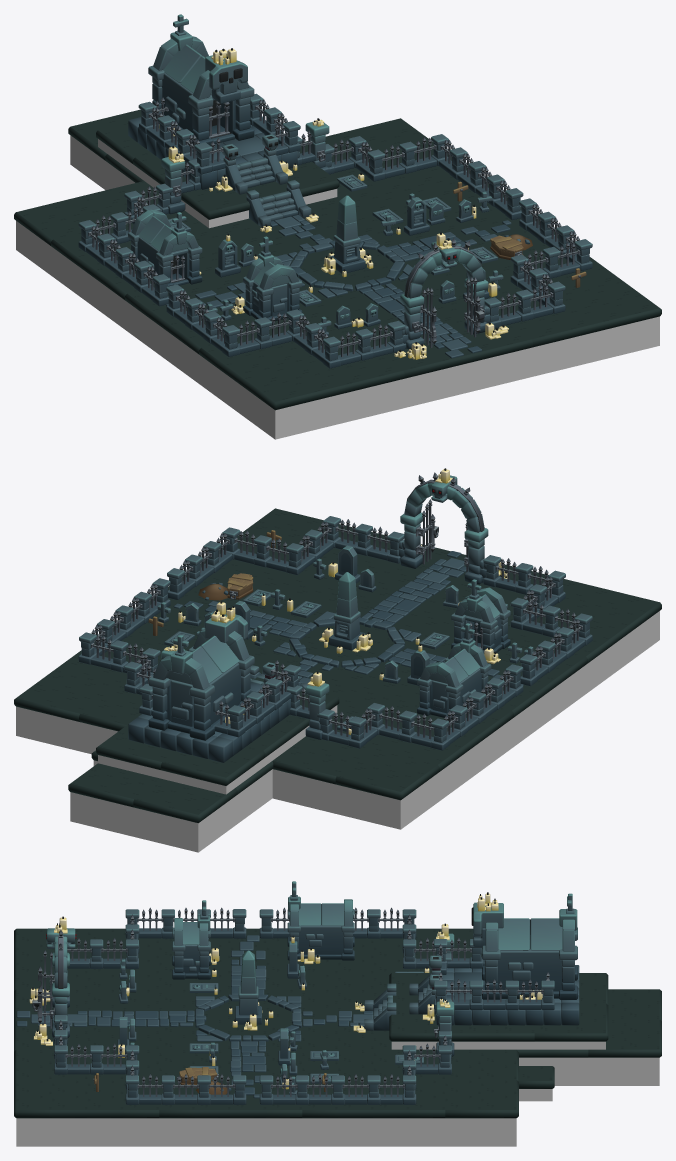
Rendered from sample.fbx.
The picture shows the model from 3 angles, top to bottom: view 1: azimuth 30°, elevation 25°; view 2: azimuth 150°, elevation 25°; view 3: azimuth 270°, elevation 25°; orthographic projection. The views are drawn at different scales.
Parts seen in each view (by area): view 1: cemetery_sample, grass2, ground; view 2: cemetery_sample, grass2, ground; view 3: grass2, cemetery_sample, ground.
Part boxes in pixels (x1=…): cemetery_sample: x1=78, y1=14, x2=592, y2=368; grass2: x1=14, y1=109, x2=661, y2=410; ground: x1=16, y1=135, x2=659, y2=439; cemetery_sample: x1=78, y1=468, x2=592, y2=762; grass2: x1=14, y1=508, x2=661, y2=823; ground: x1=16, y1=611, x2=659, y2=852; grass2: x1=14, y1=928, x2=661, y2=1118; cemetery_sample: x1=16, y1=881, x2=579, y2=1104; ground: x1=16, y1=1041, x2=659, y2=1146.
Bounding box in the file's own units: 2425 × 998 × 3625.
